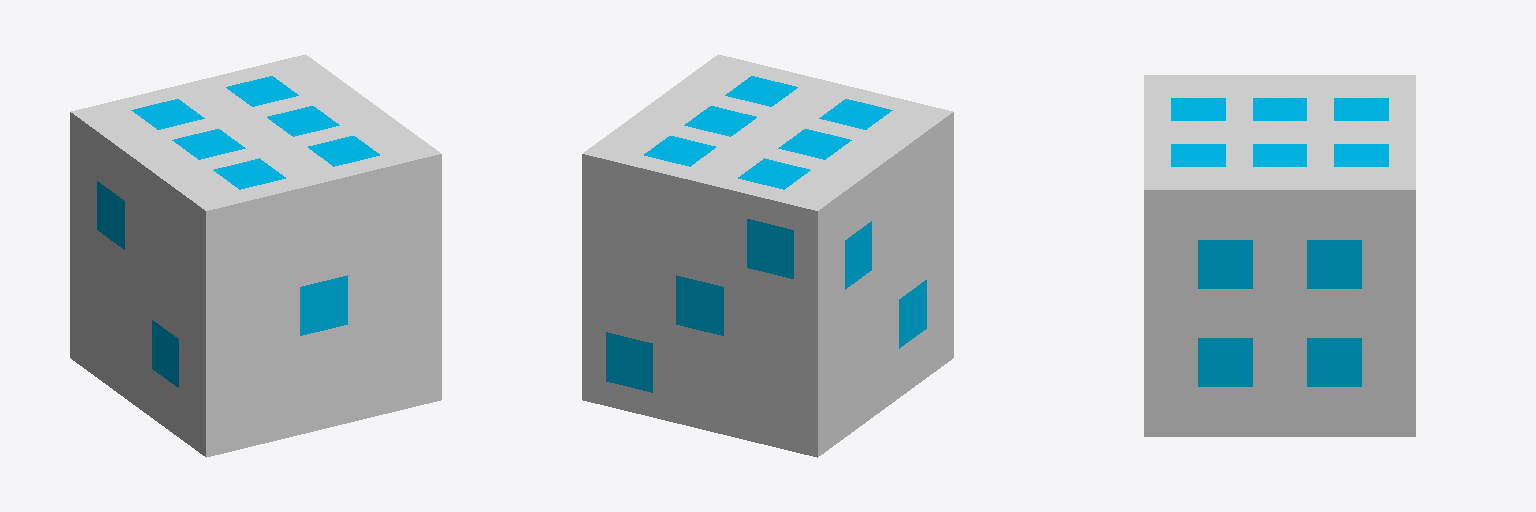
3 renders of one model, left to right at view 1: azimuth 30°, elevation 25°; view 2: azimuth 150°, elevation 25°; view 3: azimuth 270°, elevation 25°, orthographic.
Visible parts, largest first — view 1: object 1; view 2: object 1; view 3: object 1.
Boxes of the visible parts, box(x1,y1,x2,y2) form: object 1: box(70, 54, 441, 457); object 1: box(582, 54, 953, 457); object 1: box(1144, 75, 1415, 436).
Size of the model in its own units: 1 by 1 by 1.
Materials: 1 (1 with a texture image).